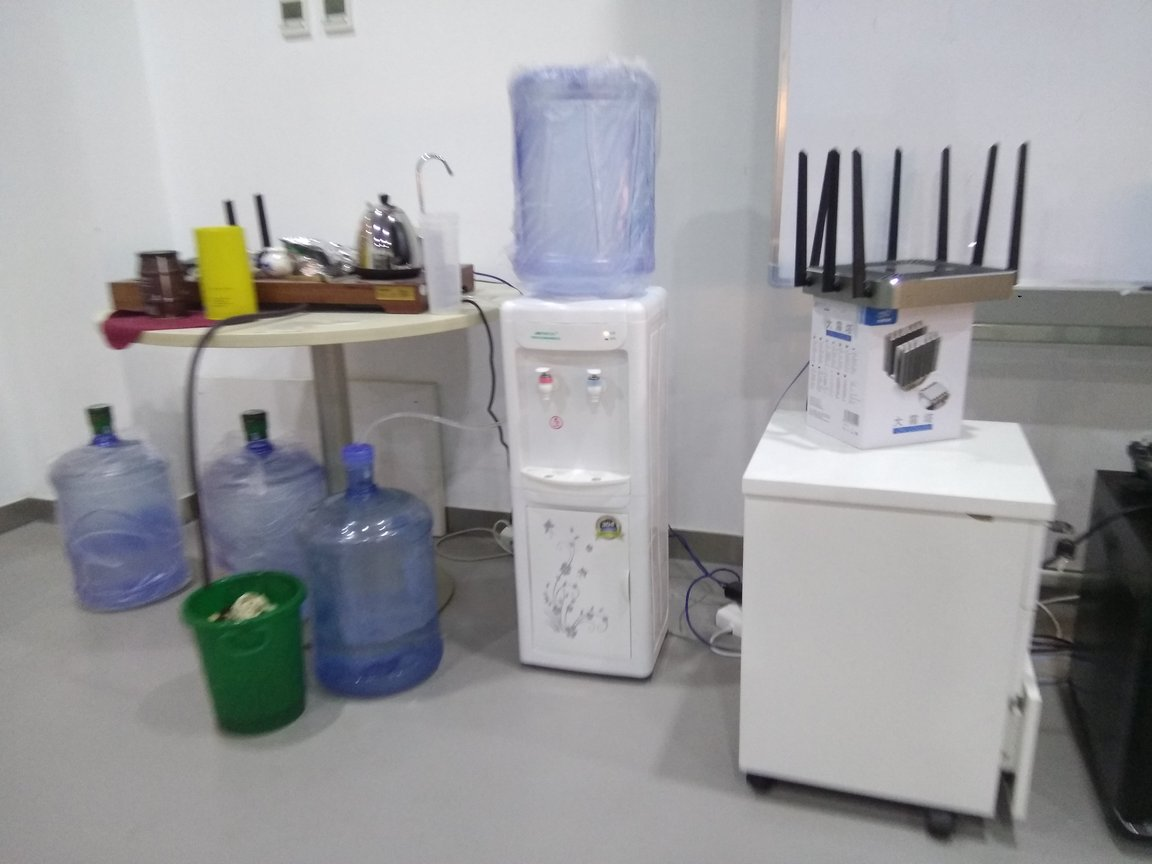drawer chest: (727, 394, 1045, 842)
scuttlebutt: (500, 63, 673, 307), (308, 433, 453, 707), (203, 408, 334, 659), (47, 396, 186, 608)
water dispenser: (495, 282, 675, 692)
